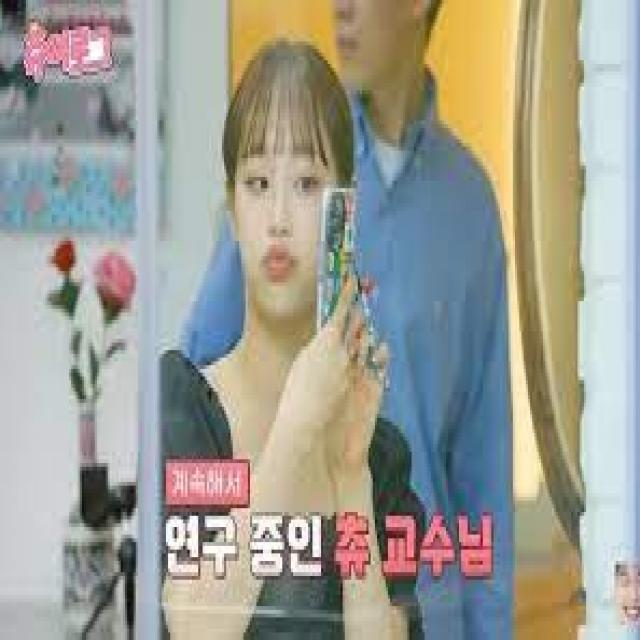Phone: (318, 186, 364, 373)
